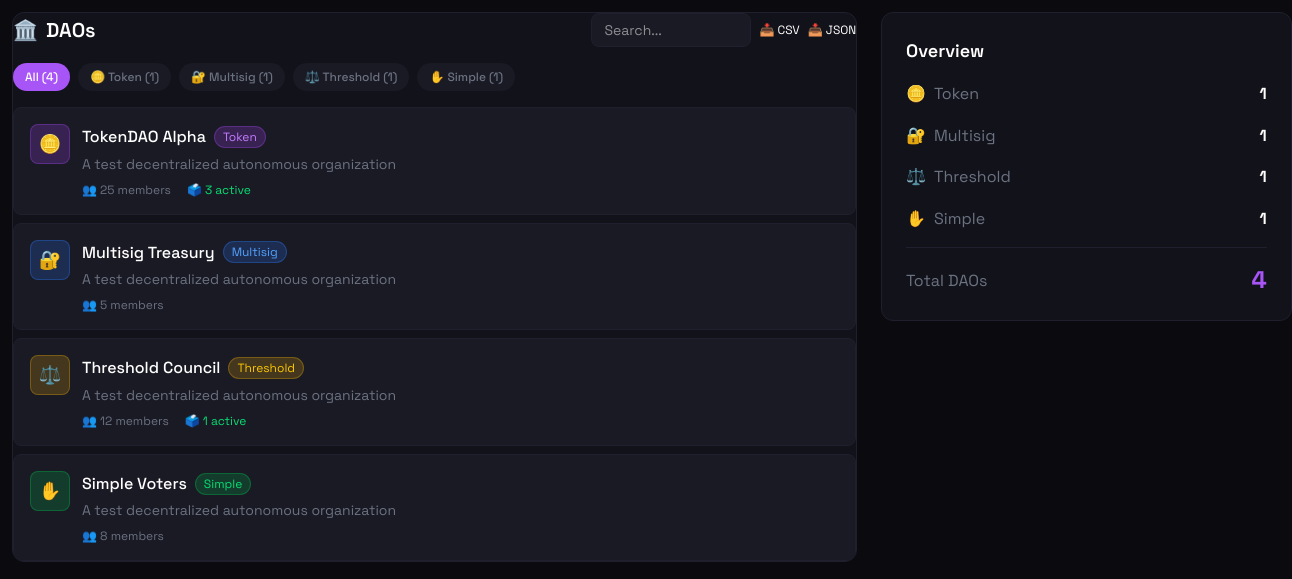
it: DAOsView › shows all DAOs when search is cleared
Check: the text "TokenDAO Alpha" is shown, box [82,124,206,150]
In the field with placeholder "Search...": (671, 30) [591,13,751,47], type "xyz-no-match"
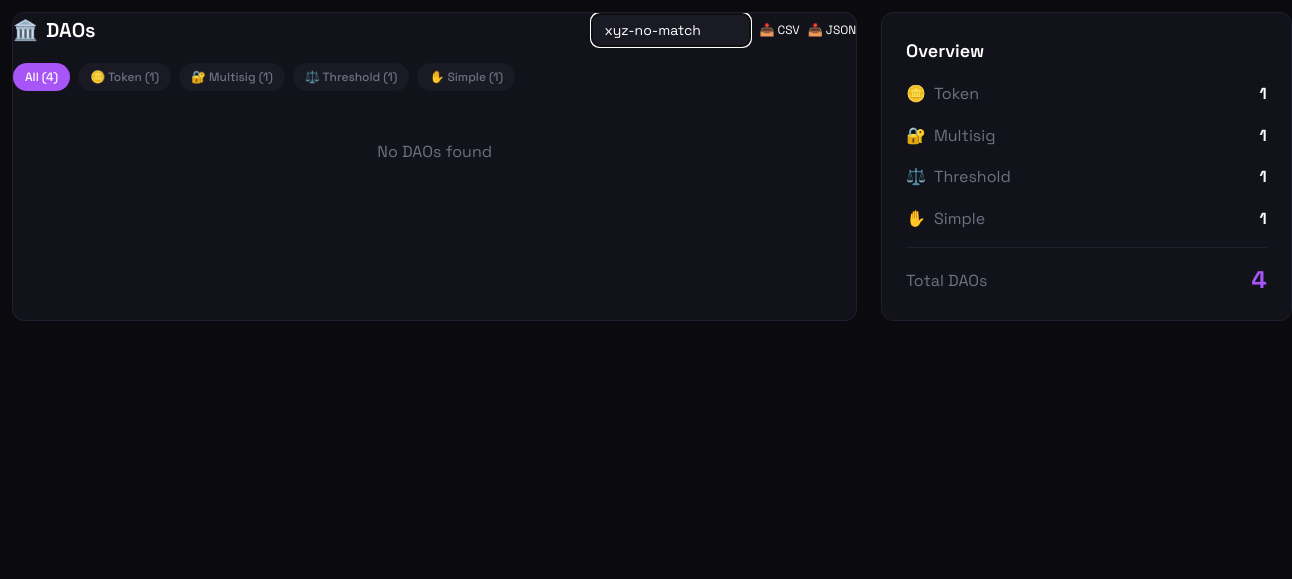
Clear the field with placeholder "Search...": (671, 30) [591,13,751,47]
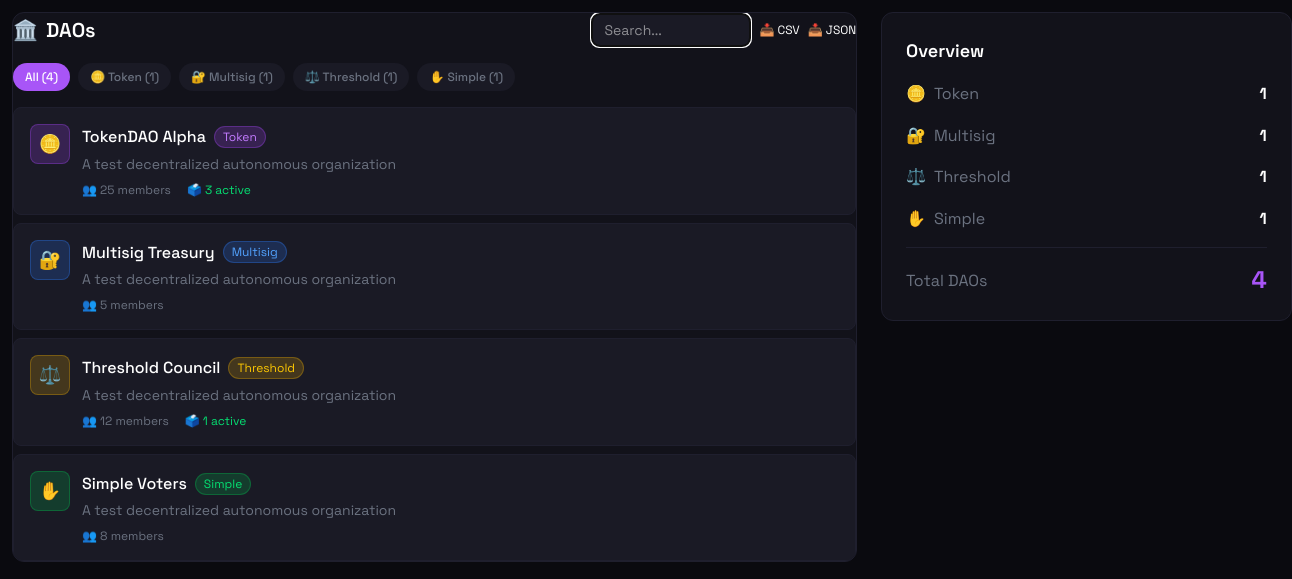
Check: the text "TokenDAO Alpha" is shown, box [82,124,206,150]
Check: the text "Multisig Treasury" is shown, box [82,240,215,265]
